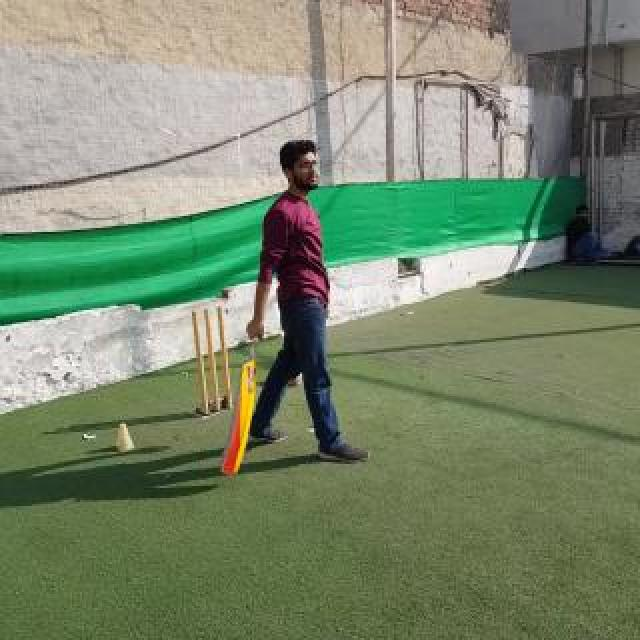bat: (220, 334, 260, 476)
